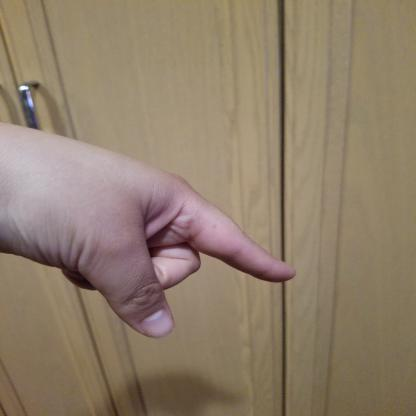Q: (0, 119, 302, 343)
